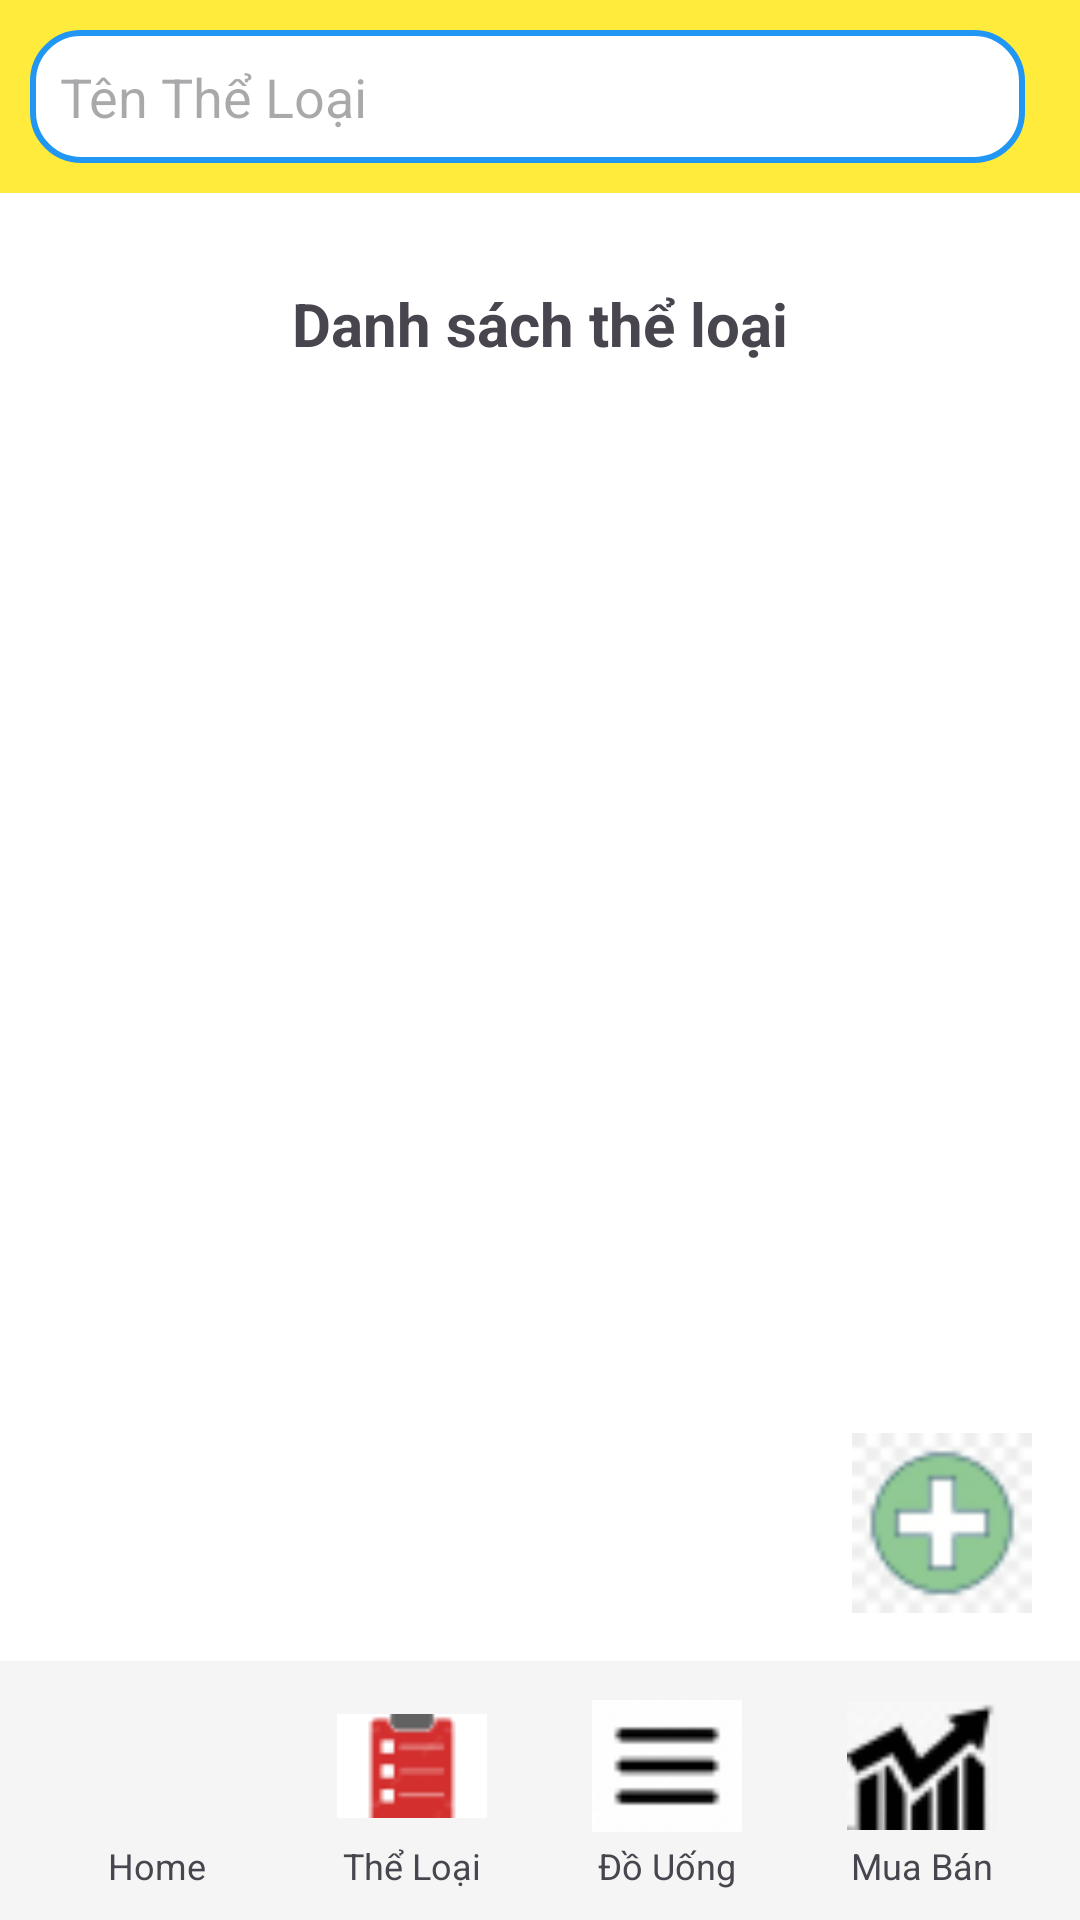

Icons on this 1080×1920 Android screen, each with its box as (x1, y1, x2, y2):
Thêm mới: (869, 1450, 1015, 1596)
